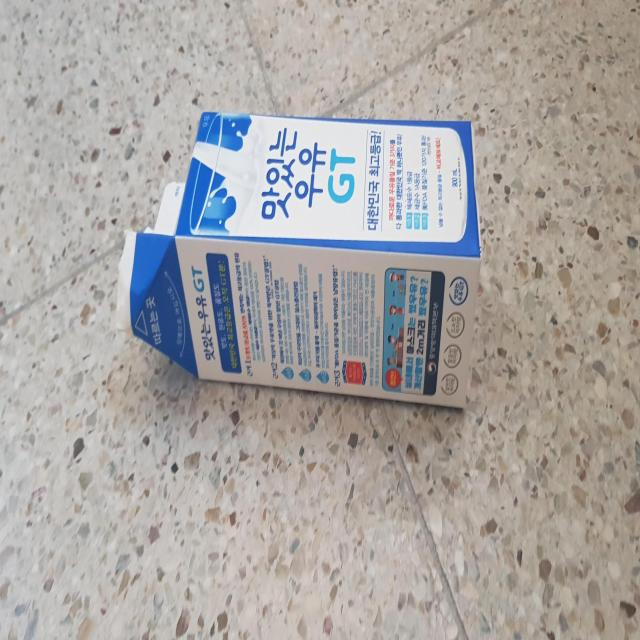paperpack: (116, 111, 481, 406)
